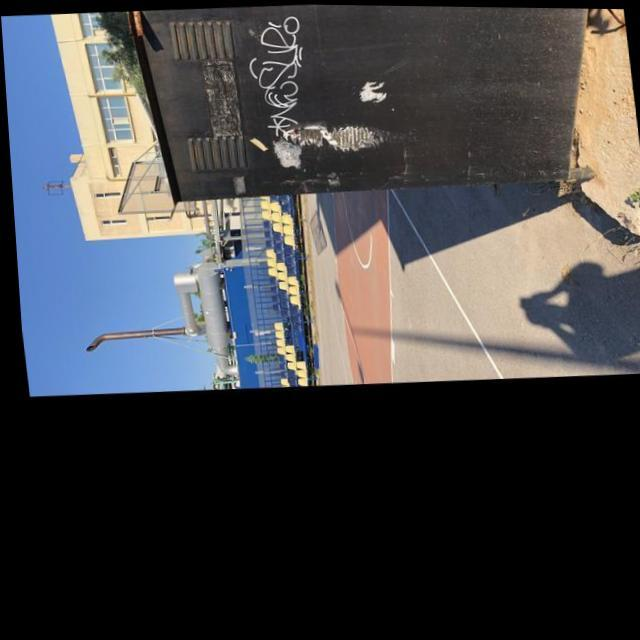-: (242, 13, 314, 140)
